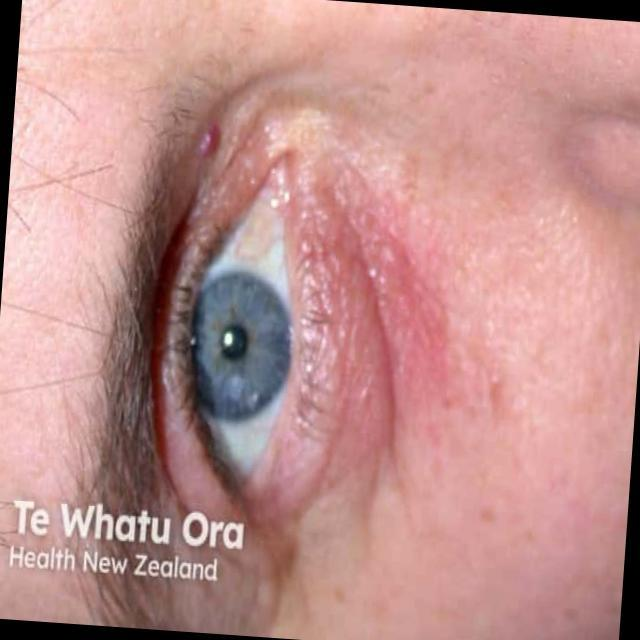Eczema: (278, 161, 446, 504)
